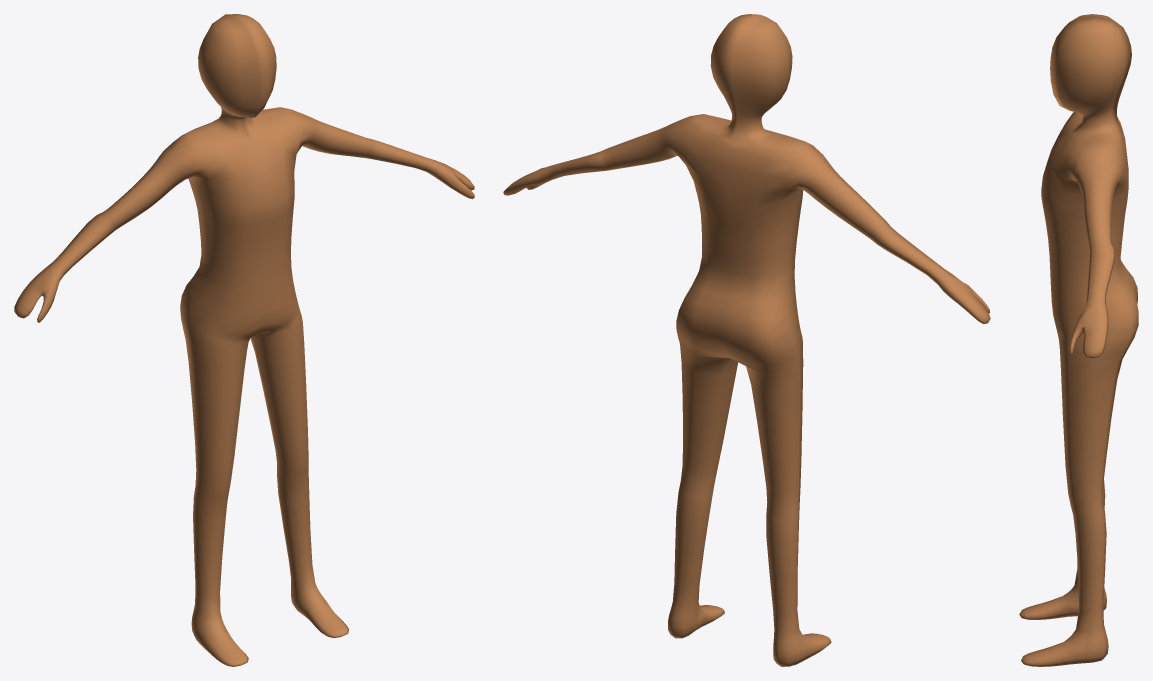
File: BlenderAvatar2.gltf
The picture shows the model from 3 angles, left to right: view 1: azimuth 30°, elevation 25°; view 2: azimuth 150°, elevation 25°; view 3: azimuth 270°, elevation 25°; orthographic projection. The views are drawn at different scales.
Parts seen in each view (by area): view 1: Cube_1; view 2: Cube_1; view 3: Cube_1.
Boxes of the visible parts, x1,y1,x2,y2 form: Cube_1: (14, 14, 474, 666); Cube_1: (503, 14, 990, 666); Cube_1: (1019, 14, 1138, 666).
Bounding box in the file's own units: 6.94 × 8.87 × 1.56.
